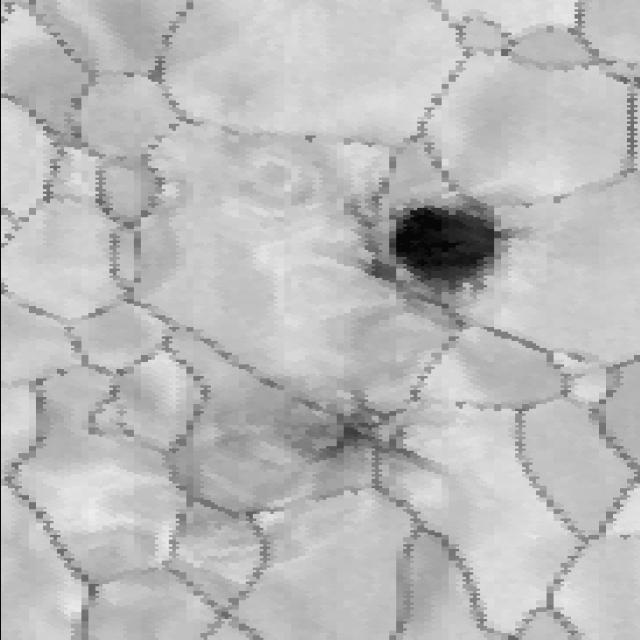good_void: (354, 186, 520, 300), (265, 392, 449, 475), (299, 128, 322, 149), (613, 532, 633, 543)
